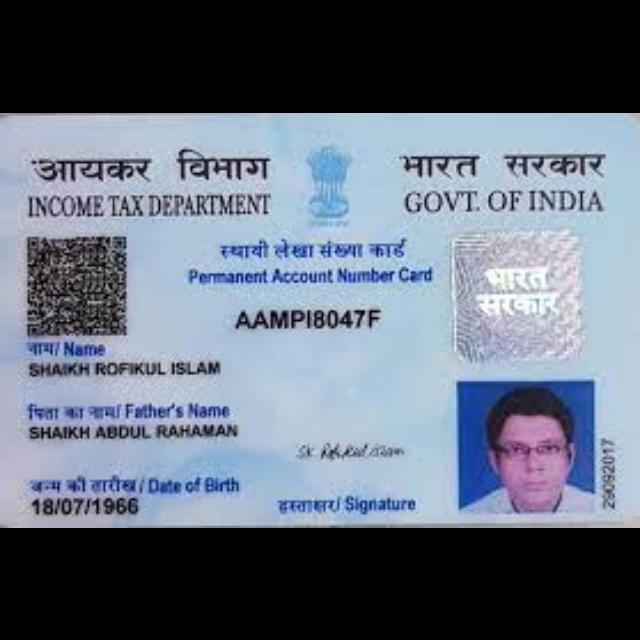pan: (0, 112, 640, 528)
